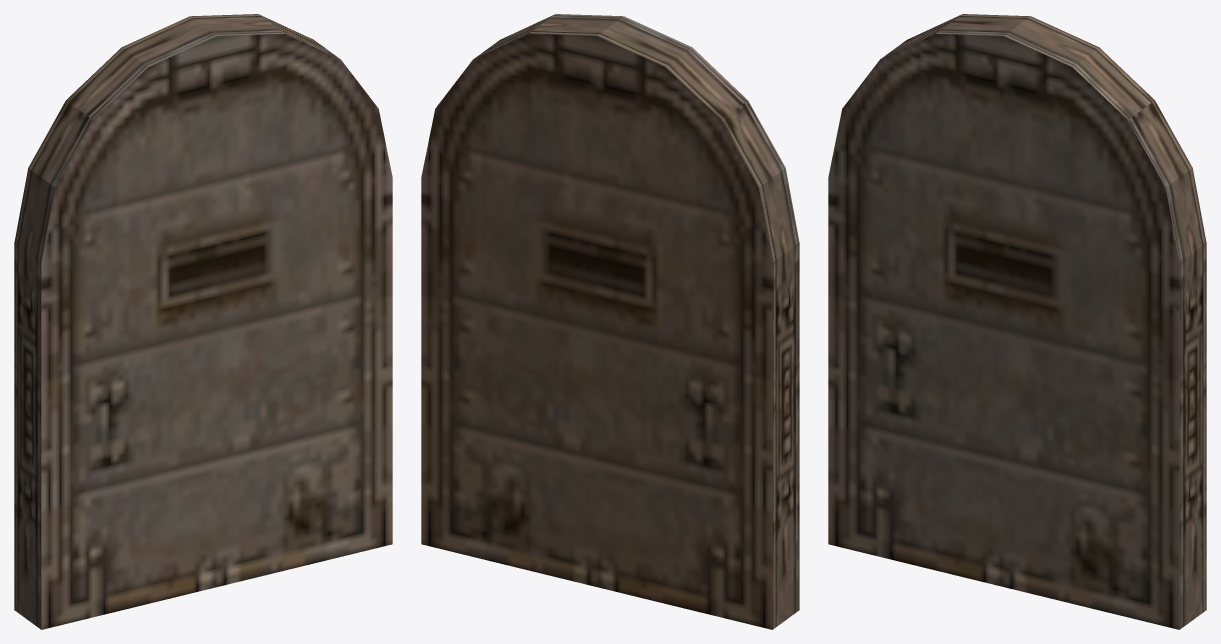
The model's file is BOOSTER_STATION_DOOR.glb.
3 views of the same model, side by side, from view 1: azimuth 30°, elevation 25°; view 2: azimuth 150°, elevation 25°; view 3: azimuth 330°, elevation 25° (orthographic).
Visible parts, largest first — view 1: BOOSTER_STATION_DOOR; view 2: BOOSTER_STATION_DOOR; view 3: BOOSTER_STATION_DOOR.
Part boxes in pixels (<box>): BOOSTER_STATION_DOOR: <box>14,14,392,629</box>; BOOSTER_STATION_DOOR: <box>421,14,799,629</box>; BOOSTER_STATION_DOOR: <box>828,14,1206,629</box>.
Bounding box in the file's own units: 1.5 × 2.25 × 0.2.
Materials: 1 (1 with a texture image).
